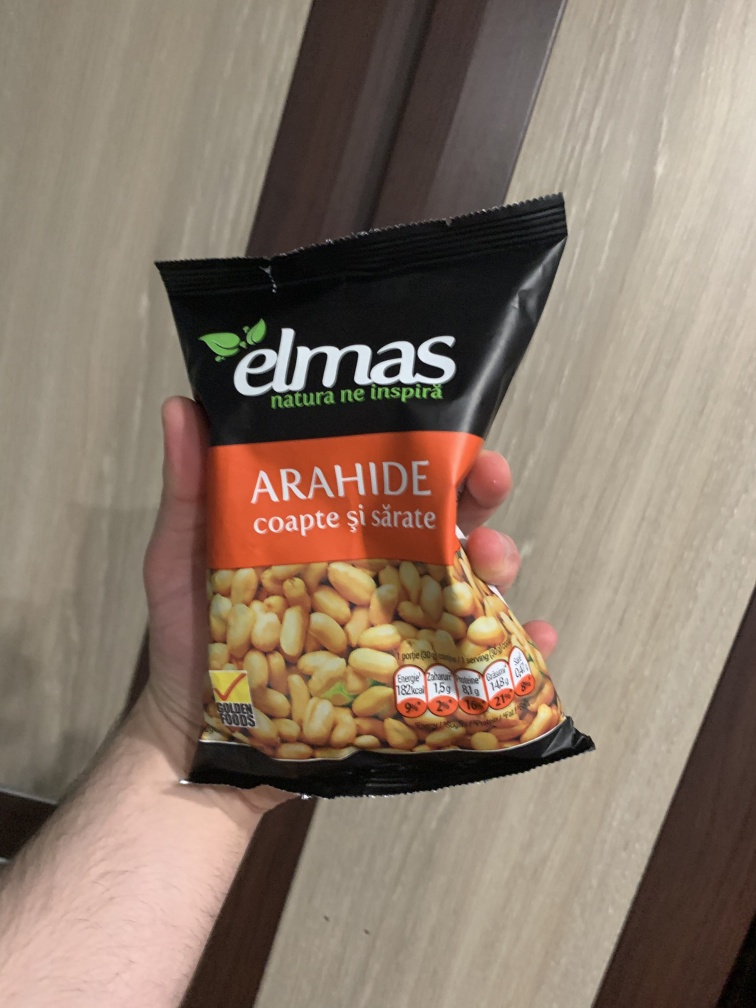peanuts: (133, 190, 622, 806)
